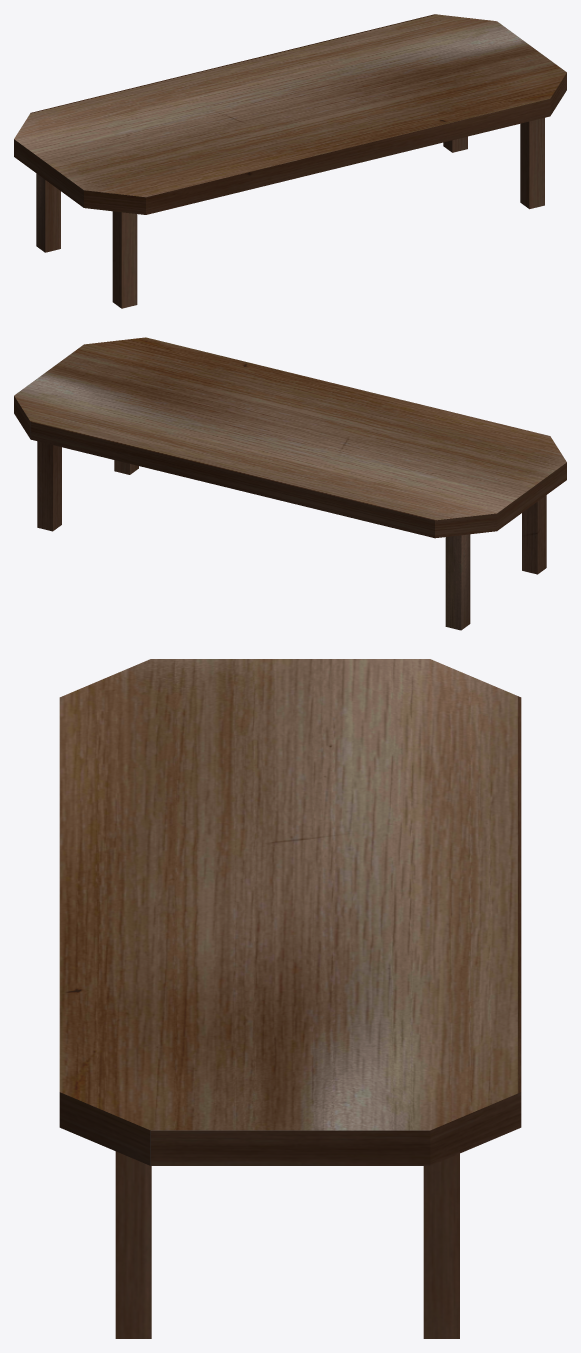
Rendered from stol_kuchnia1.glb.
3 renders of one model, top to bottom at view 1: azimuth 30°, elevation 25°; view 2: azimuth 150°, elevation 25°; view 3: azimuth 270°, elevation 25°, orthographic. The views are drawn at different scales.
Parts seen in each view (by area): view 1: Cube.038; view 2: Cube.038; view 3: Cube.038.
Boxes of the visible parts, left/top/right/bottom form: Cube.038: left=14, top=14, right=566, bottom=308; Cube.038: left=14, top=337, right=566, bottom=630; Cube.038: left=59, top=659, right=521, bottom=1338.
Bounding box in the file's own units: 5.44 × 1.28 × 2.25.
1 material, 1 textured.
